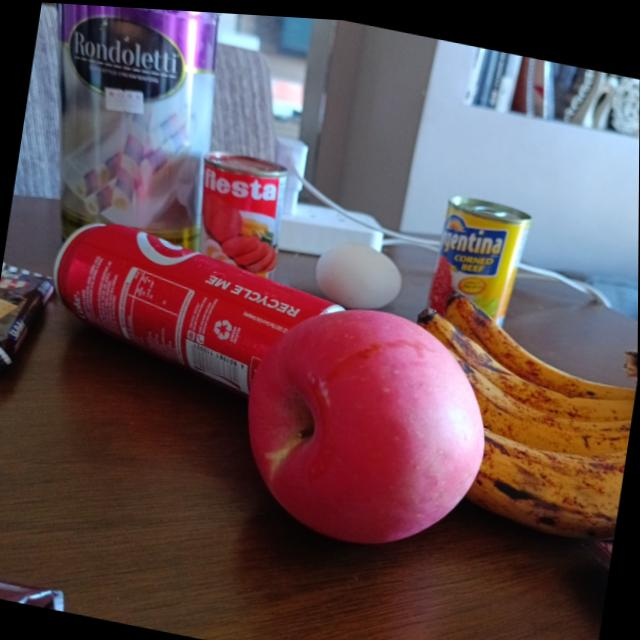apple: (234, 286, 506, 560)
coke: (42, 208, 352, 408)
egg: (312, 236, 408, 313)
